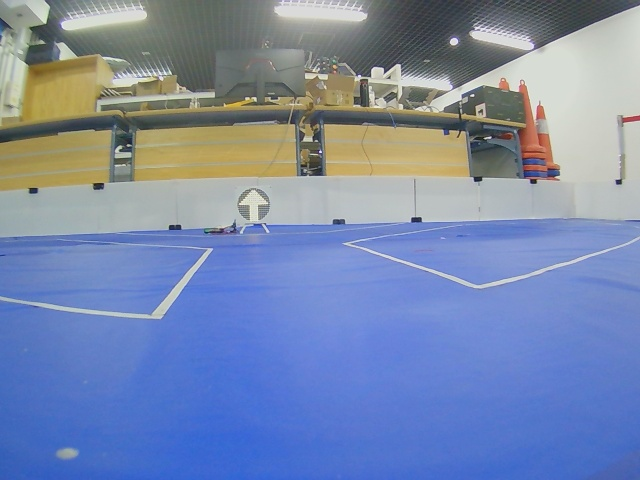straight_yellow: (238, 188, 270, 222)
